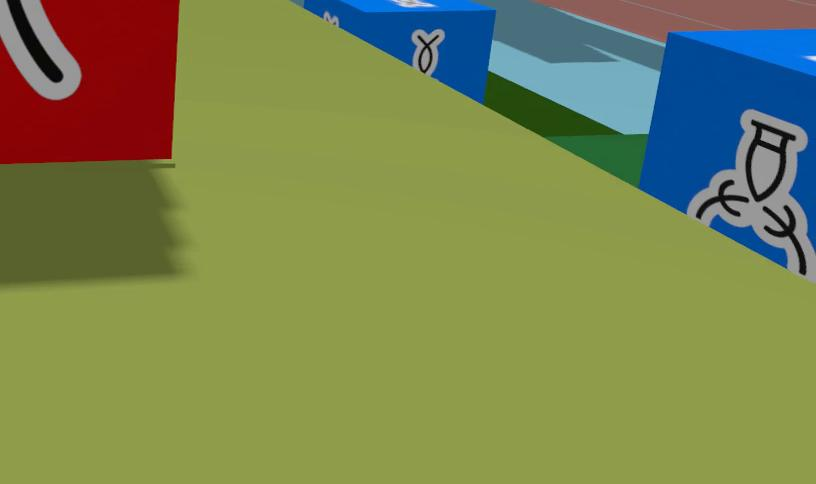KFS_FAKE: (0, 0, 179, 163), (0, 0, 80, 99)
KFS_REAL: (638, 28, 815, 280), (688, 109, 811, 278), (305, 0, 495, 100), (410, 29, 444, 74)
